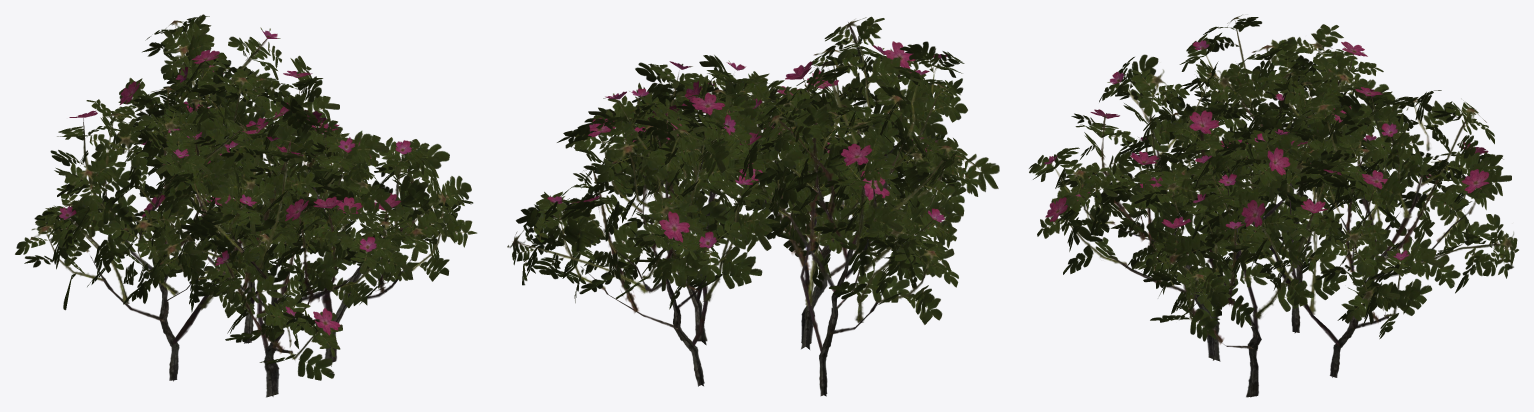
File: veg-86.glb
The picture shows the model from 3 angles, left to right: view 1: azimuth 30°, elevation 25°; view 2: azimuth 150°, elevation 25°; view 3: azimuth 270°, elevation 25°; orthographic projection. The views are drawn at different scales.
Visible parts, largest first — view 1: _6up1_VarG_LOD3_86; view 2: _6up1_VarG_LOD3_86; view 3: _6up1_VarG_LOD3_86.
Boxes of the visible parts, x1,y1,x2,y2 form: _6up1_VarG_LOD3_86: (15,14,477,397); _6up1_VarG_LOD3_86: (507,16,999,396); _6up1_VarG_LOD3_86: (1029,14,1518,397).
Bounding box in the file's own units: 1.26 × 0.8794 × 1.36.
Materials: 1 (1 with a texture image).
